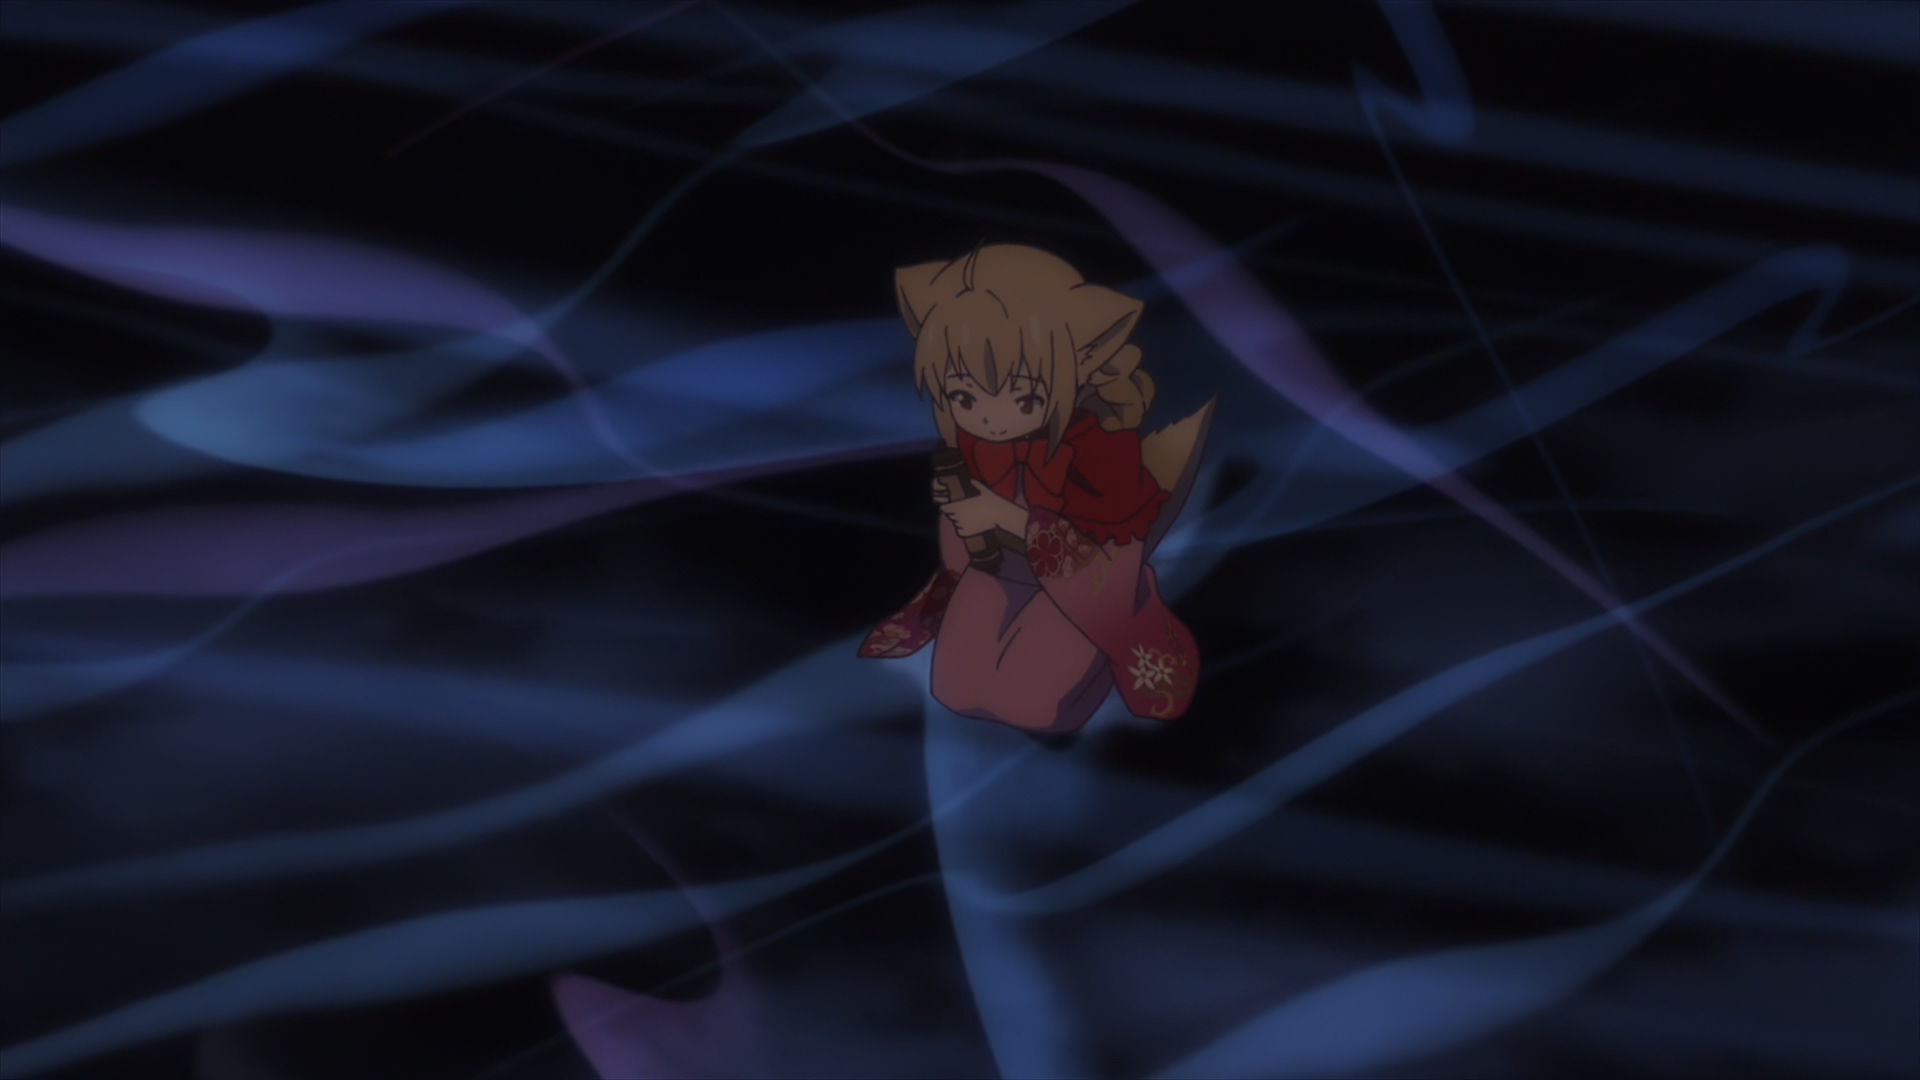柚: (858, 241, 1220, 746)
